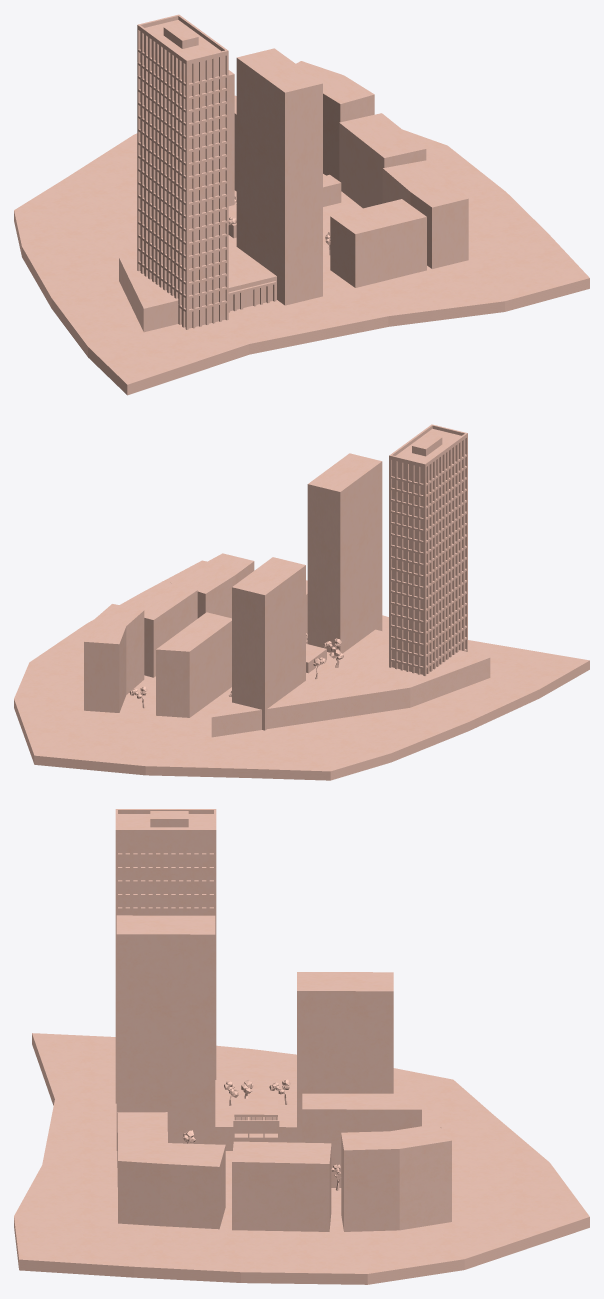
3 views of the same model, one above another, from view 1: azimuth 30°, elevation 25°; view 2: azimuth 150°, elevation 25°; view 3: azimuth 270°, elevation 25° (orthographic). The views are drawn at different scales.
Parts seen in each view (by area): view 1: Cube; view 2: Cube; view 3: Cube.
Boxes of the visible parts, x1,y1,x2,y2 form: Cube: (14,14,589,395); Cube: (14,424,589,780); Cube: (14,809,589,1284).
Size of the model in its own units: 238 by 133 by 240.
Materials: 1 (1 with a texture image).
